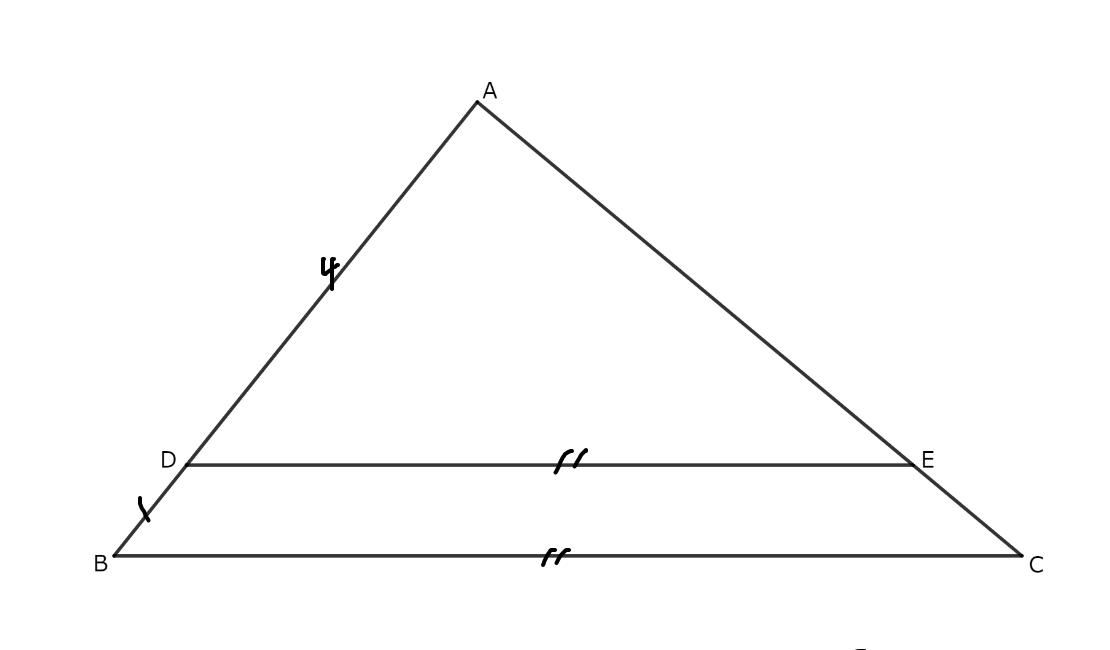Edge_Dline: (549, 444, 594, 482), (535, 542, 567, 576)
